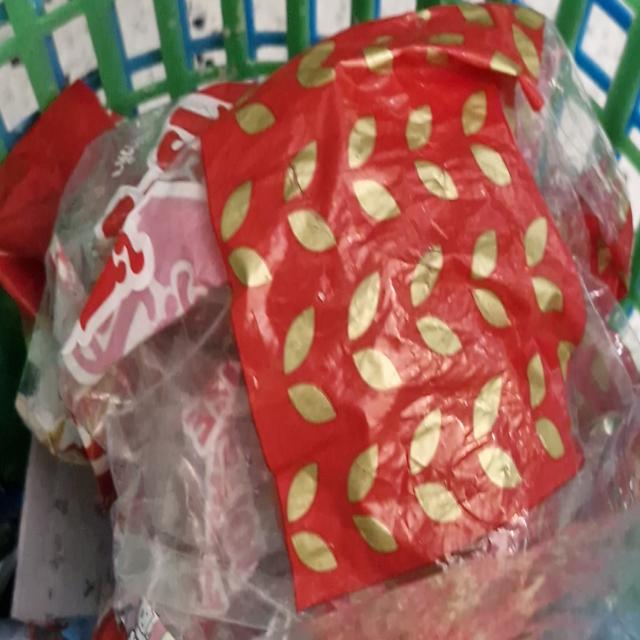plastic bag: (17, 0, 640, 611)
